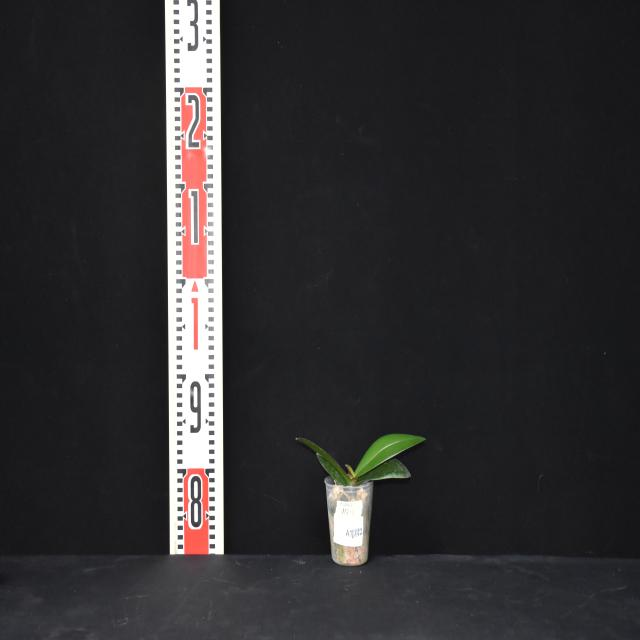leaf: (352, 434, 425, 480), (296, 436, 352, 483), (356, 458, 412, 487), (317, 453, 347, 486)
